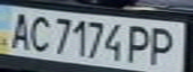1: (66, 17, 87, 57)
4: (103, 19, 130, 62)
7: (48, 15, 72, 55), (84, 18, 106, 60)
A: (3, 9, 36, 51)
C: (24, 12, 54, 52)
P: (145, 24, 184, 67), (124, 21, 157, 64)
